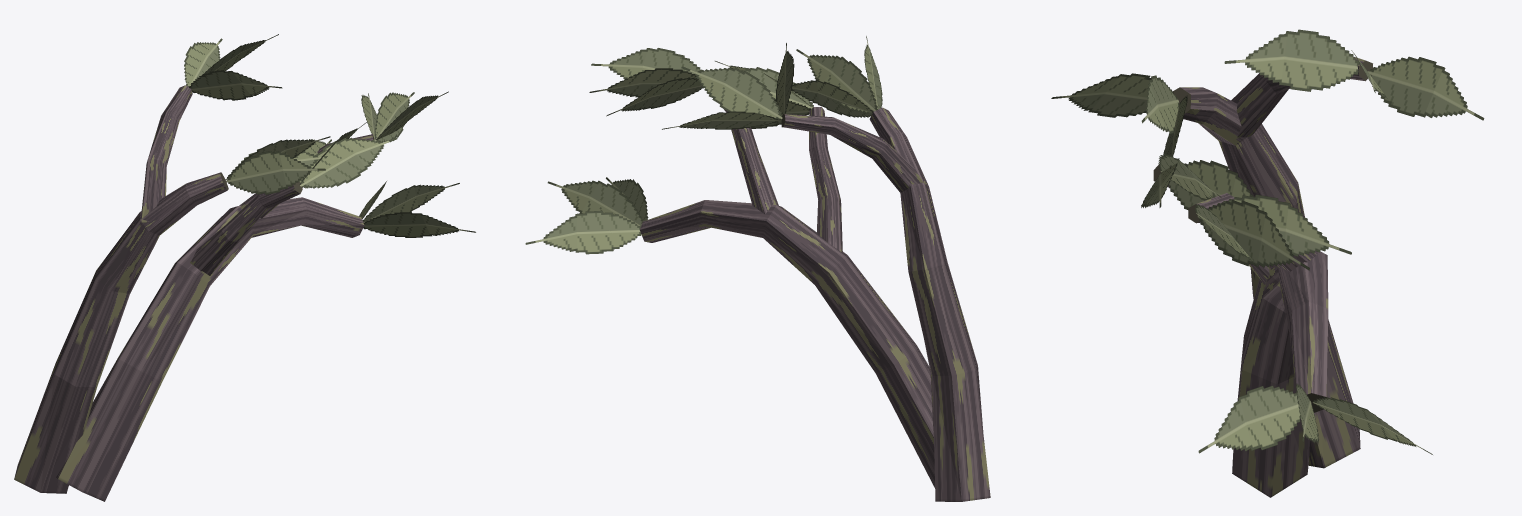
The model's file is A07_Shrub.fbx.
3 views of the same model, side by side, from view 1: azimuth 30°, elevation 25°; view 2: azimuth 150°, elevation 25°; view 3: azimuth 270°, elevation 25° (orthographic). The views are drawn at different scales.
Parts seen in each view (by area): view 1: A07_shrub; view 2: A07_shrub; view 3: A07_shrub.
Boxes of the visible parts, x1=… form: A07_shrub: x1=14, y1=34, x2=475, y2=501; A07_shrub: x1=525, y1=36, x2=990, y2=501; A07_shrub: x1=1051, y1=29, x2=1484, y2=497.
Size of the model in its own units: 1.77 by 1.52 by 1.16.
